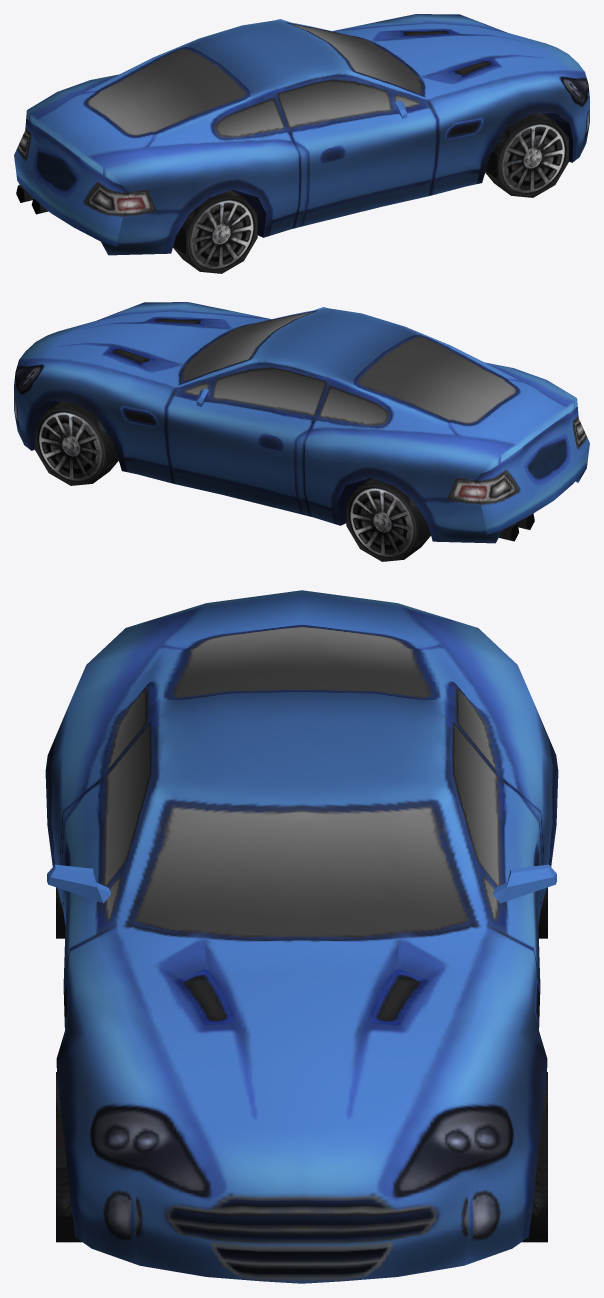
The model's file is car_03.FBX.
The picture shows the model from 3 angles, top to bottom: view 1: azimuth 30°, elevation 25°; view 2: azimuth 150°, elevation 25°; view 3: azimuth 270°, elevation 25°; orthographic projection. The views are drawn at different scales.
Parts seen in each view (by area): view 1: car_03; view 2: car_03; view 3: car_03.
Boxes of the visible parts, <box> form: car_03: <box>14,14,589,273</box>; car_03: <box>14,302,589,561</box>; car_03: <box>45,590,558,1283</box>.
Size of the model in its own units: 16.81 by 4.77 by 7.16.
1 material, 1 textured.
